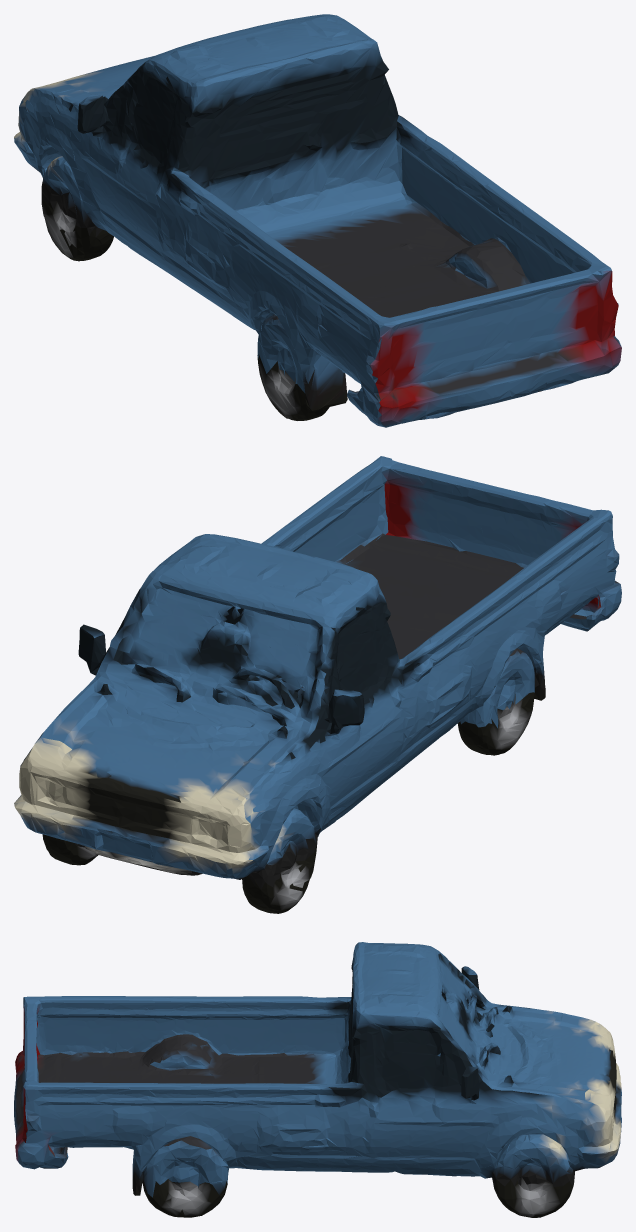
Rendered from nissan.glb.
3 renders of one model, top to bottom at view 1: azimuth 30°, elevation 25°; view 2: azimuth 150°, elevation 25°; view 3: azimuth 270°, elevation 25°, orthographic. The views are drawn at different scales.
Parts seen in each view (by area): view 1: body, wheel_0, wheel_1; view 2: body, wheel_1, wheel_0, wheel_2; view 3: body, wheel_2, wheel_3.
Part boxes in pixels (x1,y1,x2,y2): body: (14,14,621,427); wheel_0: (41,200,113,261); wheel_1: (257,354,329,420); body: (14,456,621,895); wheel_1: (457,692,534,755); wheel_0: (242,847,316,913); wheel_2: (42,834,98,865); body: (14,942,621,1217); wheel_2: (493,1177,573,1217); wheel_3: (147,1179,227,1217).
Bounding box in the file's own units: 88.11 × 75.18 × 204.
